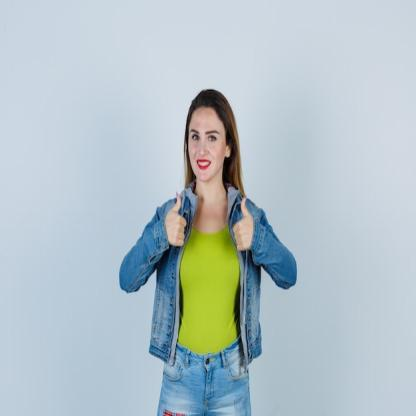thumb_up: (230, 192, 259, 256), (165, 188, 191, 250)
